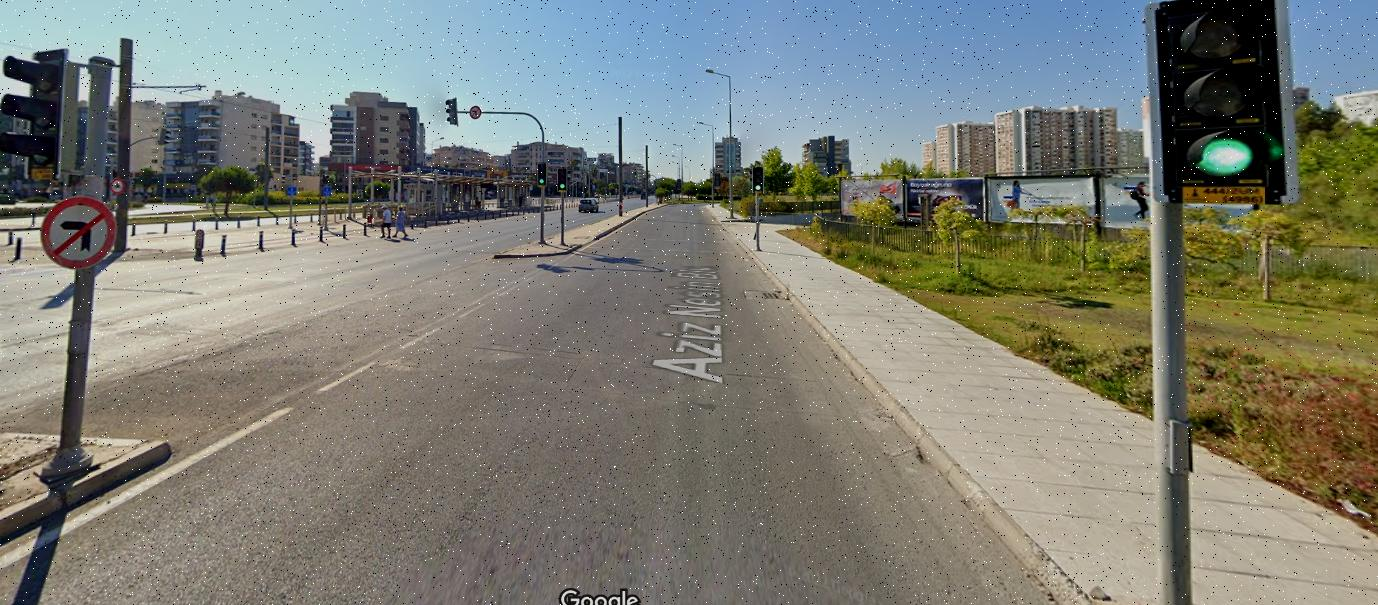greenlight: (1153, 0, 1282, 206), (9, 45, 77, 182), (752, 166, 763, 194), (557, 167, 567, 193), (537, 162, 547, 186), (634, 171, 637, 178), (671, 186, 674, 192)
leftturnsareforbidden: (40, 197, 114, 269)
